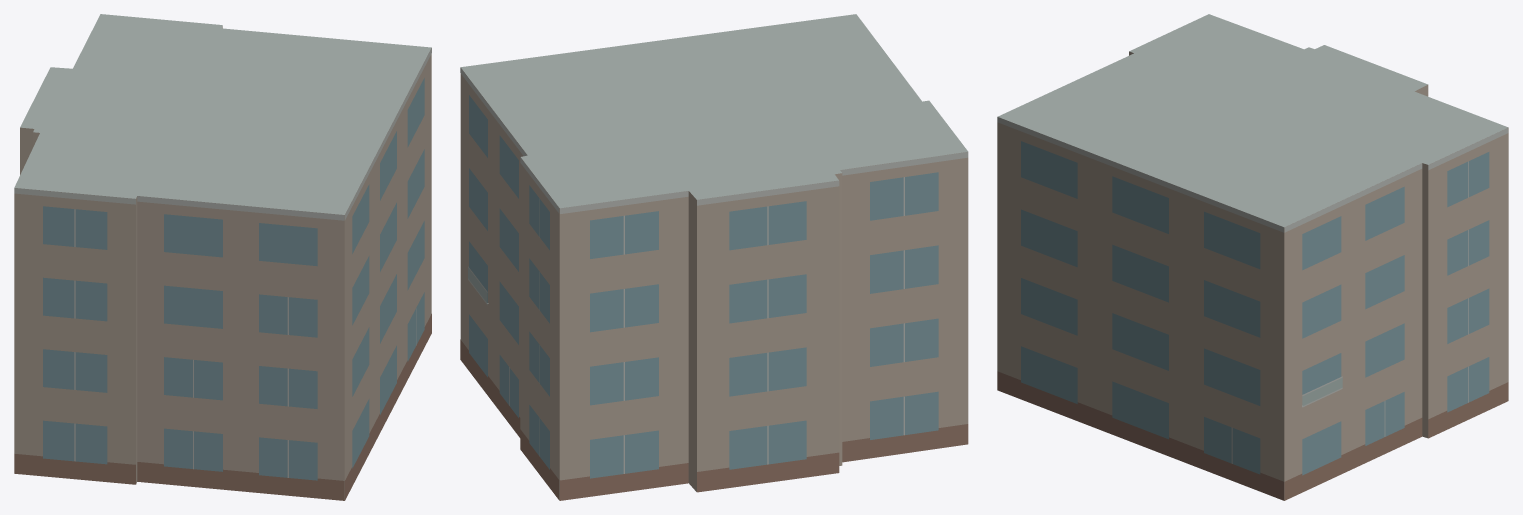
Rendered from survey-upis-32567868.glb.
3 renders of one model, left to right at view 1: azimuth 30°, elevation 25°; view 2: azimuth 150°, elevation 25°; view 3: azimuth 270°, elevation 25°, orthographic. The views are drawn at different scales.
Parts seen in each view (by area): view 1: survey-upis-32567868.tmp; view 2: survey-upis-32567868.tmp; view 3: survey-upis-32567868.tmp.
Boxes of the visible parts, x1,y1,x2,y2 form: survey-upis-32567868.tmp: [14, 14, 431, 500]; survey-upis-32567868.tmp: [460, 14, 968, 500]; survey-upis-32567868.tmp: [997, 14, 1508, 500].
Bounding box in the file's own units: 20.33 × 12.15 × 20.58.
